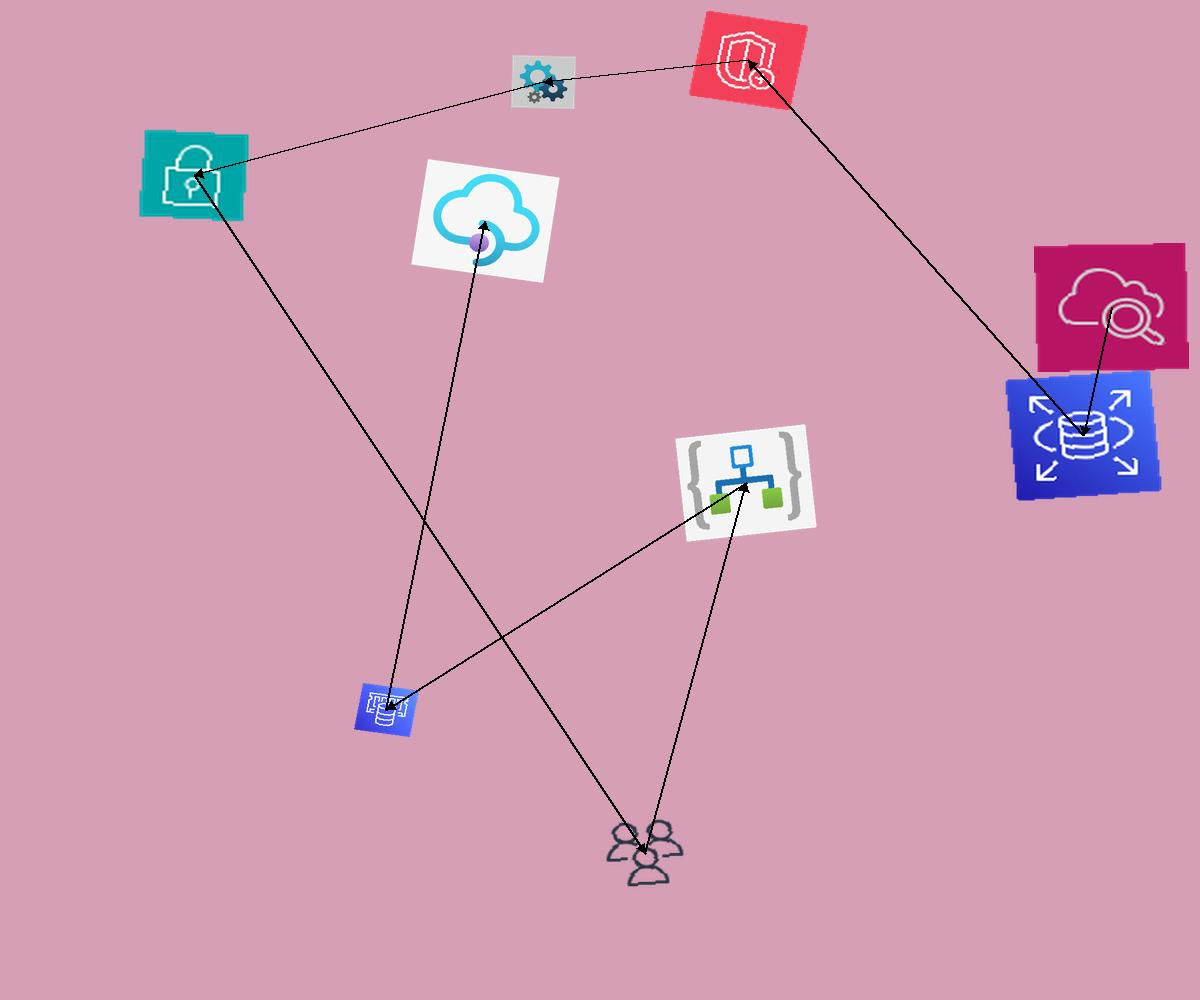AWS-CloudWatch: (1034, 243, 1189, 372)
AWS-ElastiCache: (354, 683, 419, 737)
AWS-Private-subnet: (137, 128, 251, 223)
AWS-RDS: (1004, 369, 1163, 502)
AWS-Res_Users: (598, 814, 692, 892)
AWS-Shield: (688, 10, 809, 111)
Azure_api: (511, 55, 576, 109)
Azure_api_gateway: (411, 159, 560, 283)
Azure_integration-204-Logic-Apps: (675, 424, 817, 542)
